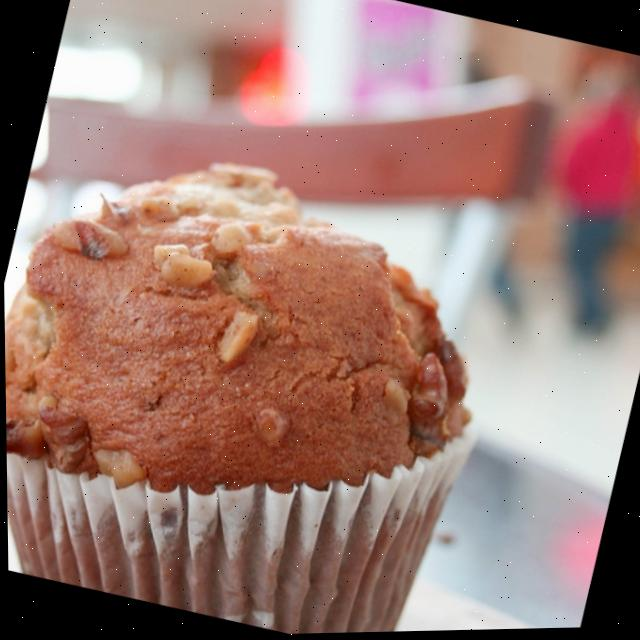炸货点心: (1, 91, 566, 640)
面包点心: (1, 91, 566, 640)
